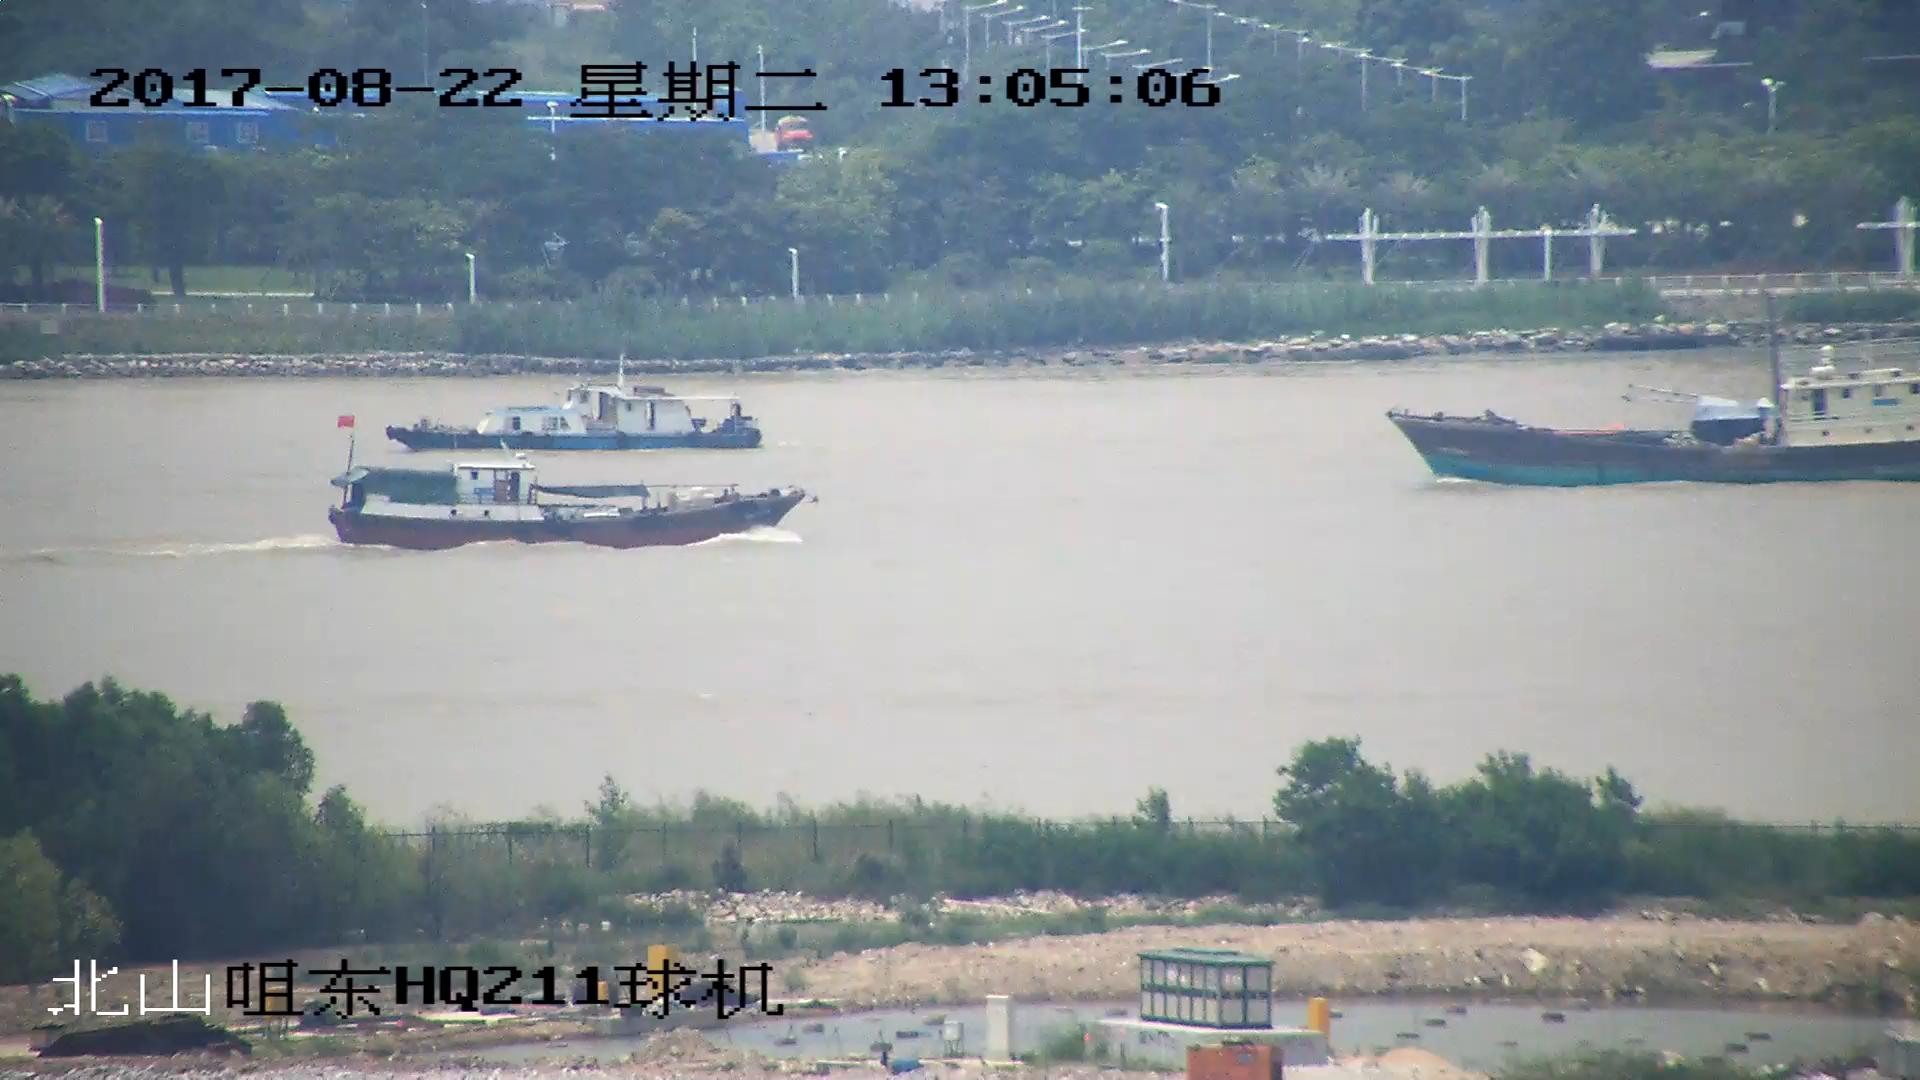fishing boat: (1378, 342, 1920, 488), (321, 416, 818, 548), (393, 358, 763, 452)
